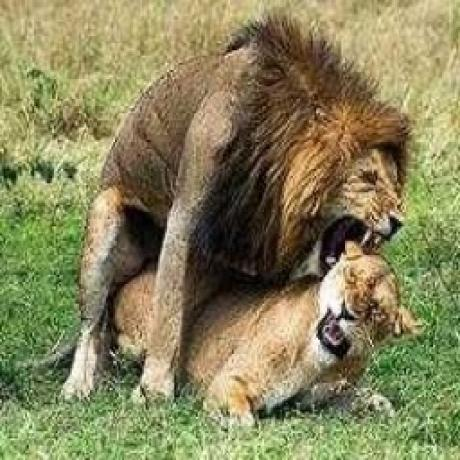Lion: (48, 18, 412, 406), (108, 243, 413, 424)
